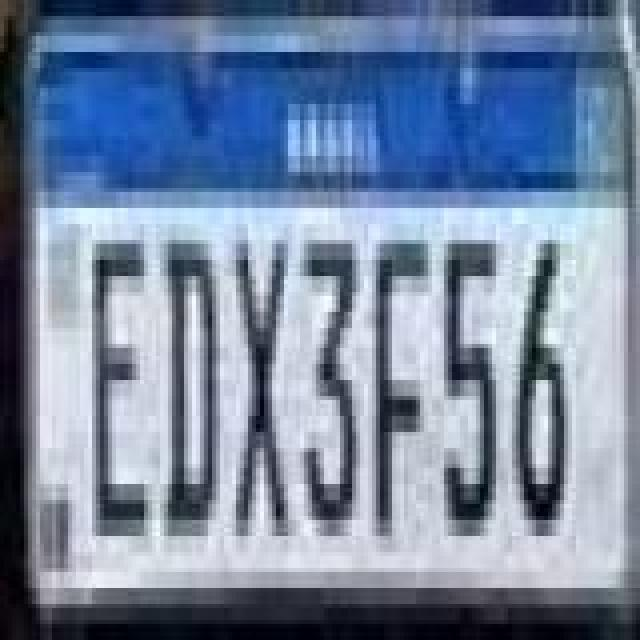3: (300, 236, 356, 548)
5: (442, 236, 502, 548)
6: (514, 236, 574, 548)
D: (162, 236, 222, 548)
E: (90, 236, 150, 548)
F: (370, 236, 430, 548)
X: (232, 236, 296, 548)
